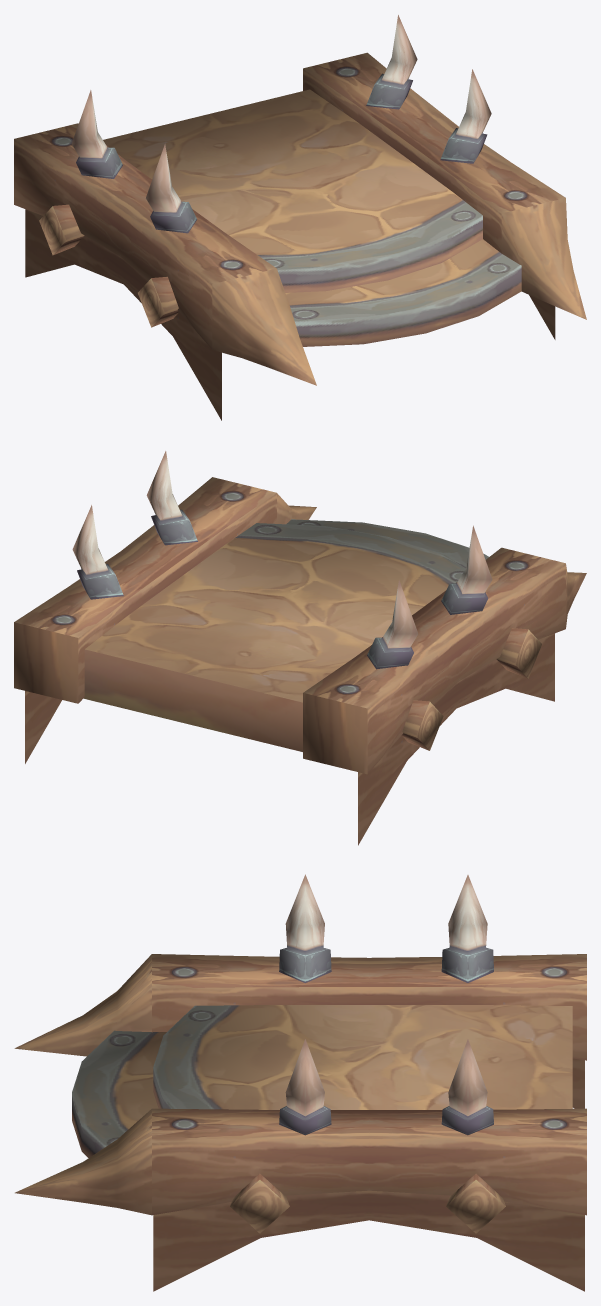
Rendered from Map_11_stairs06.FBX.
3 renders of one model, top to bottom at view 1: azimuth 30°, elevation 25°; view 2: azimuth 150°, elevation 25°; view 3: azimuth 270°, elevation 25°, orthographic. The views are drawn at different scales.
Parts seen in each view (by area): view 1: Map_11_stairs06; view 2: Map_11_stairs06; view 3: Map_11_stairs06.
Part boxes in pixels (<box>): Map_11_stairs06: <box>14,15,586,420</box>; Map_11_stairs06: <box>14,451,586,845</box>; Map_11_stairs06: <box>14,874,586,1291</box>.
Size of the model in its own units: 368 by 209 by 441.
